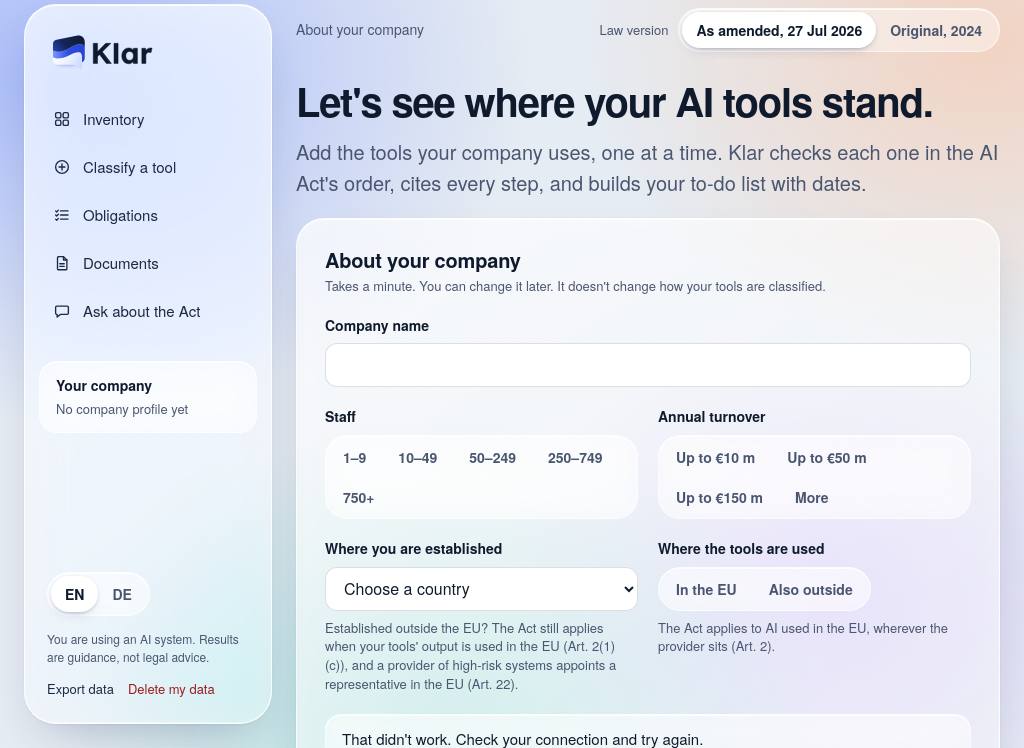
Scenario: Welcome, the derived size line › cites Art. 99(6a), not Art. 99(6), for a small mid-cap (en)
The image size is (1024, 748).
Expected: the heading "Let's see where your AI tools stand." is shown, [296,76,1000,126]
Click the button "250–749": (575, 457) [534,439,616,475]
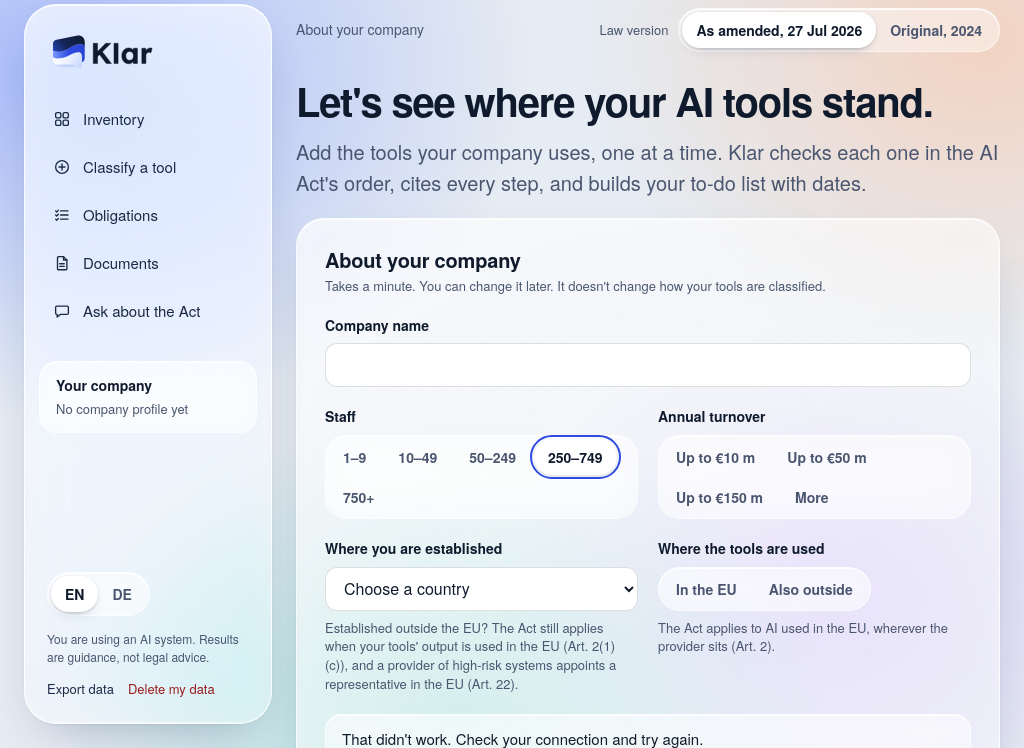
Click the button "Up to €50 m": (827, 457) [773,439,881,475]
(page scrolled)
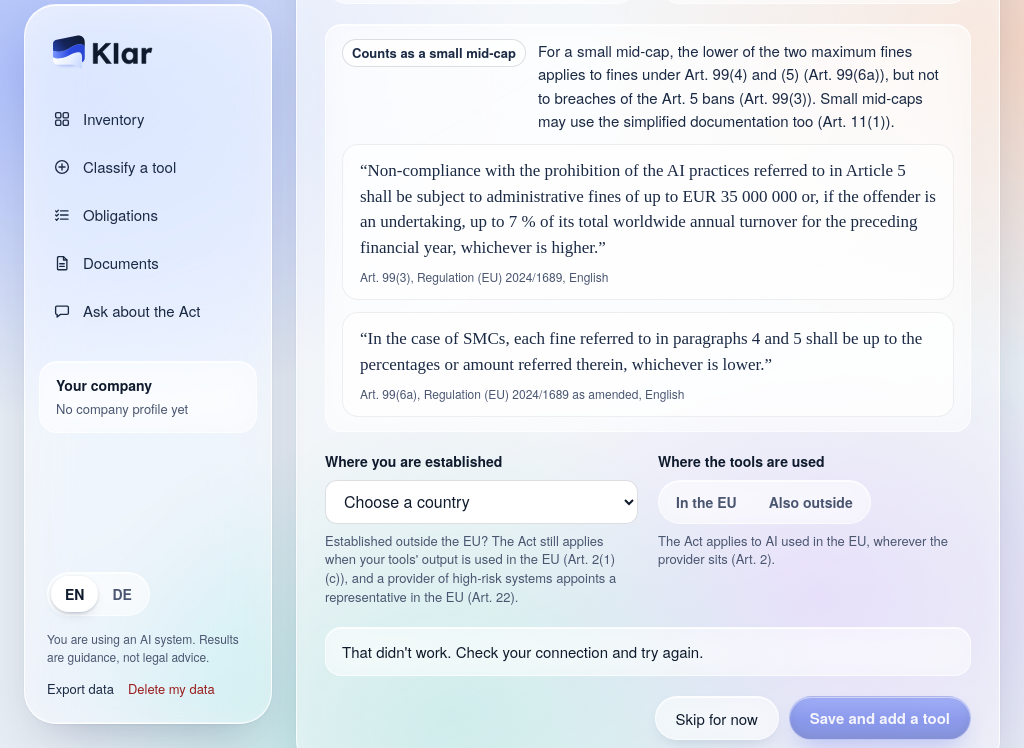
Expected: the text "Counts as a small mid-cap" is shown, [342,39,526,66]
Expected: the text "Art. 99(6a), Regulation (EU) 2024/1689 as amended, English" shows "In the case of SMCs, each fine referred to in paragraphs 4 and 5 shall be up to the percentages or amount referred therein, whichever is lower.", [360,329,922,374]
